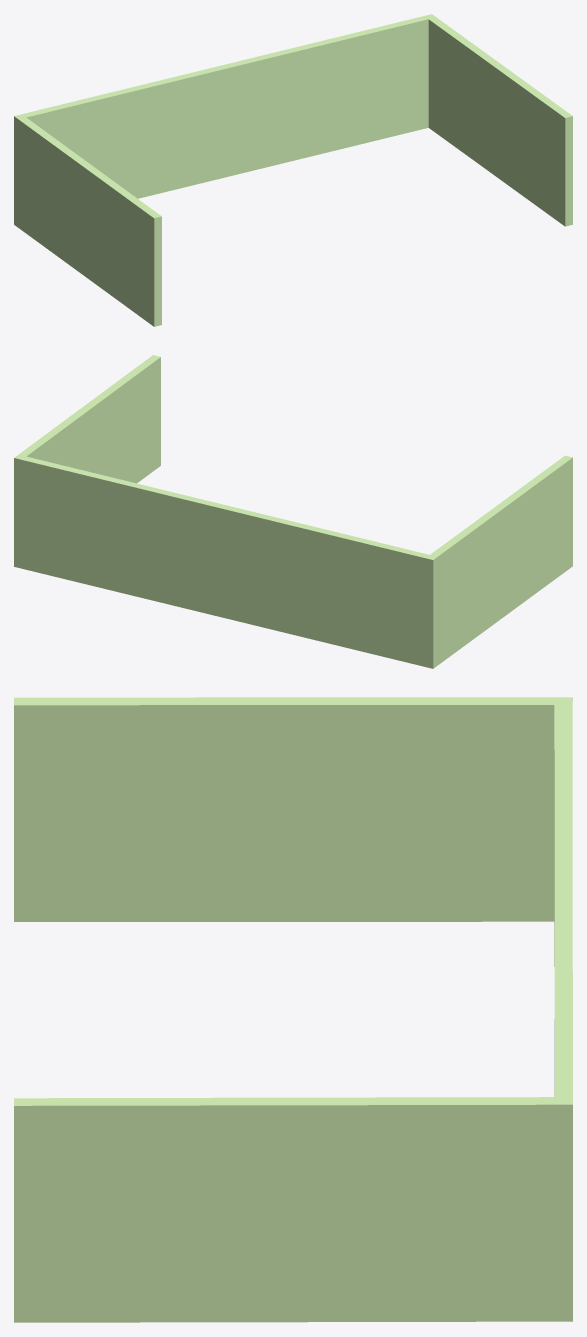
The model's file is walls.glb.
The picture shows the model from 3 angles, top to bottom: view 1: azimuth 30°, elevation 25°; view 2: azimuth 150°, elevation 25°; view 3: azimuth 270°, elevation 25°; orthographic projection. The views are drawn at different scales.
Parts seen in each view (by area): view 1: ObjObject.000.2, ObjObject.1, ObjObject.001.3; view 2: ObjObject.000.2, ObjObject.1, ObjObject.001.3; view 3: ObjObject.001.3, ObjObject.1, ObjObject.000.2.
Part boxes in pixels (left/top/right/bottom): ObjObject.000.2: left=14, top=14, right=431, bottom=198; ObjObject.1: left=14, top=116, right=161, bottom=326; ObjObject.001.3: left=428, top=14, right=572, bottom=226; ObjObject.000.2: left=14, top=456, right=433, bottom=668; ObjObject.1: left=430, top=455, right=572, bottom=668; ObjObject.001.3: left=14, top=355, right=160, bottom=483; ObjObject.001.3: left=14, top=1097, right=572, bottom=1322; ObjObject.1: left=14, top=697, right=572, bottom=921; ObjObject.000.2: left=554, top=697, right=572, bottom=1104.
Size of the model in its own units: 1071 by 265 by 619.
